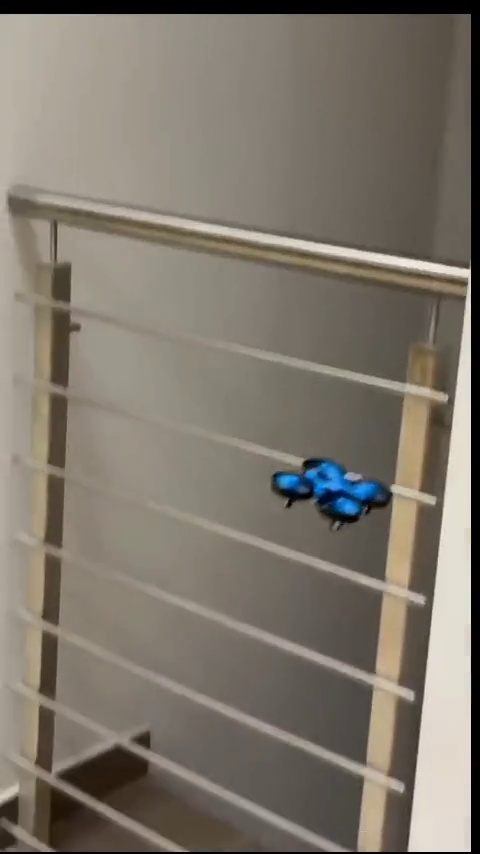drone: (274, 455, 383, 525)
